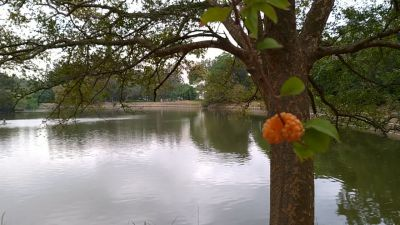eggs: (260, 111, 305, 144)
